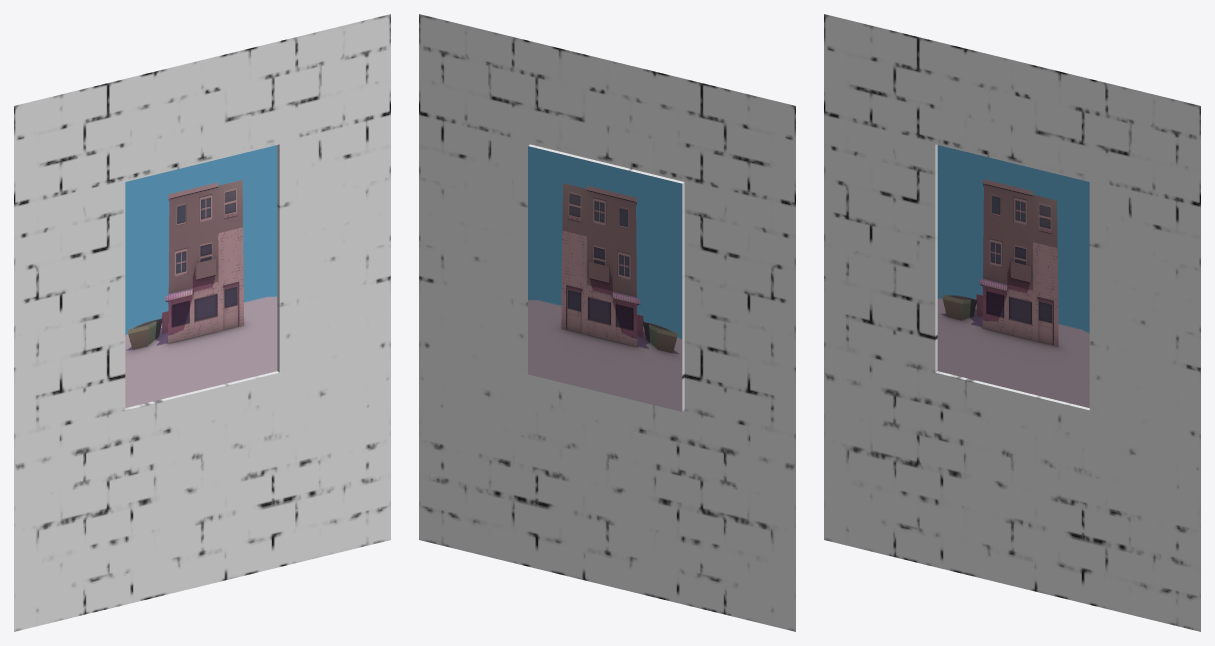
The model's file is Window1.fbx.
3 renders of one model, left to right at view 1: azimuth 30°, elevation 25°; view 2: azimuth 150°, elevation 25°; view 3: azimuth 330°, elevation 25°, orthographic.
Parts seen in each view (by area): view 1: Plane.011; view 2: Plane.011; view 3: Plane.011.
Boxes of the visible parts, left/top/right/bottom form: Plane.011: left=14, top=14, right=390, bottom=631; Plane.011: left=419, top=14, right=795, bottom=631; Plane.011: left=824, top=14, right=1200, bottom=631.
Bounding box in the file's own units: 150 × 200 × 1.56.
